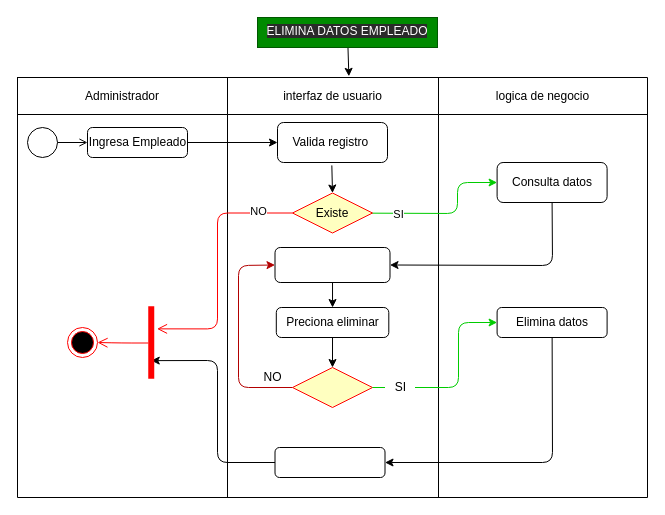
The diagram is 665 pixels wide and 515 high, and some of its shapes have lost their labels. Here are the shapes that lost their labels. From the top down, the centre of each, then its label:
At (x=332, y=264): "Muestra datos".
At (x=332, y=387): "Confirma".
At (x=329, y=462): "Datos Eliminados".
